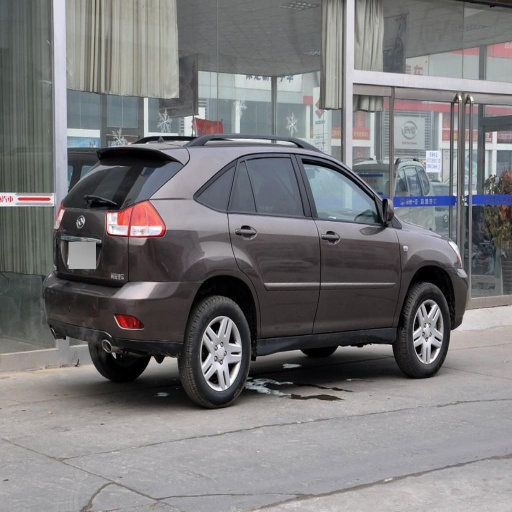_background_: (45, 237, 195, 354)
back_bumper: (65, 149, 187, 207)
back_left_light: (230, 148, 319, 337)
back_right_door: (128, 215, 165, 240)
front_left_light: (300, 150, 399, 332)
right_mirror: (54, 206, 120, 270)
tailgate: (61, 208, 131, 286)
trunk: (183, 295, 252, 406), (395, 282, 452, 377), (94, 349, 142, 379)
